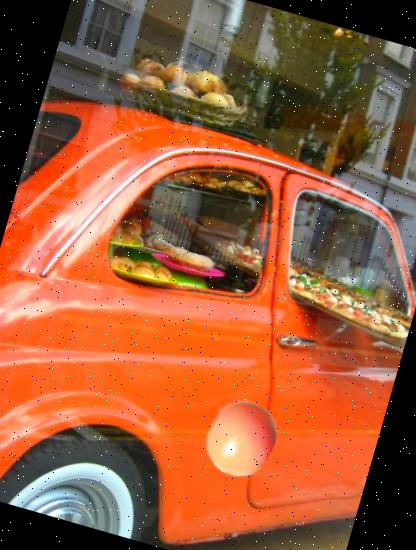Grapefruit: (193, 390, 289, 486)
